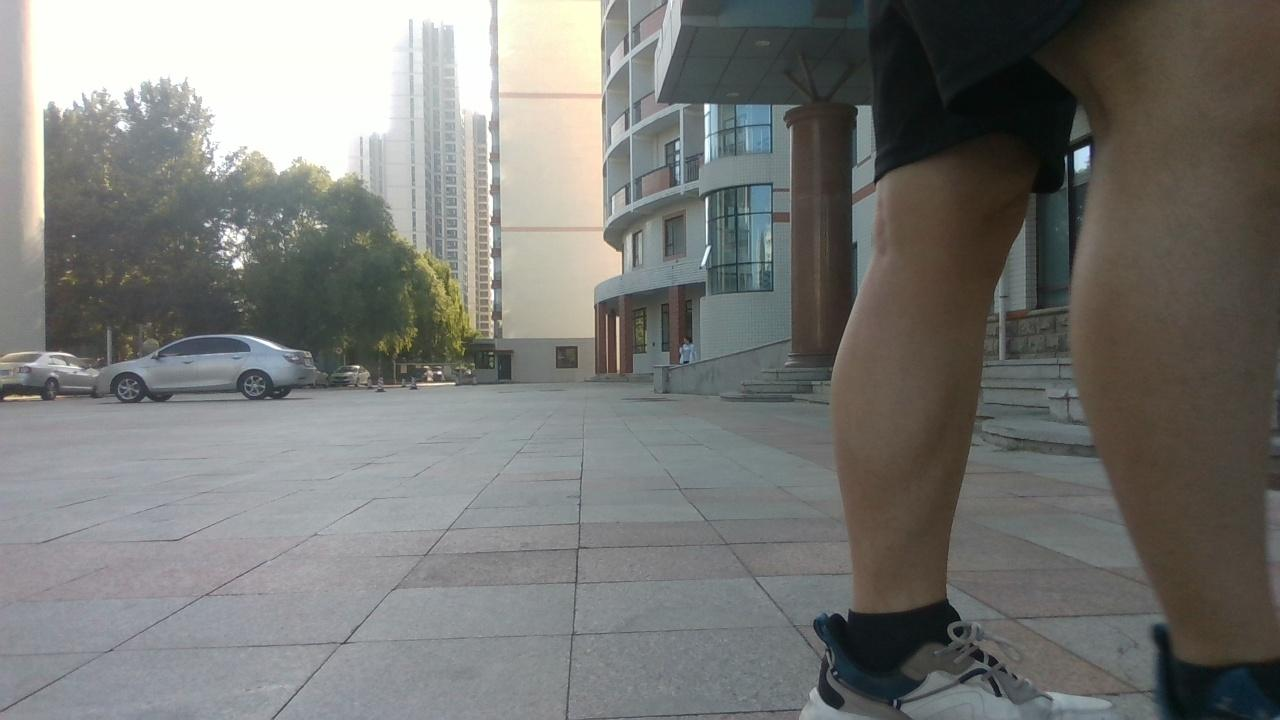person: (805, 0, 1280, 718)
